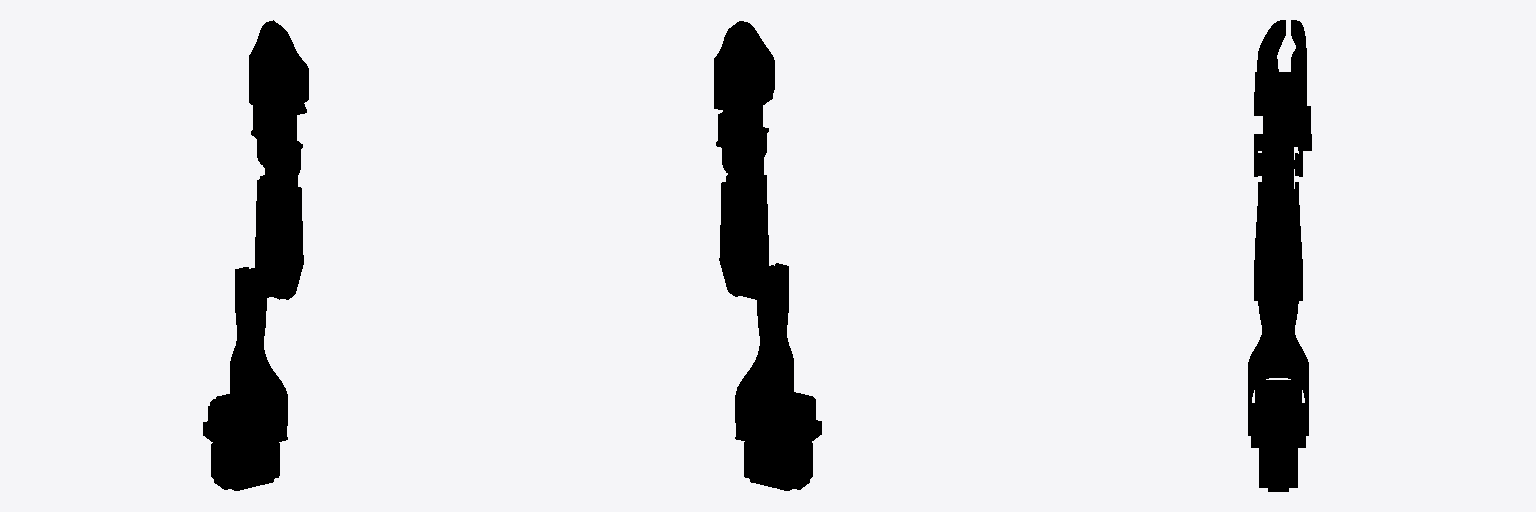
robot.urdf — koch11:
<?xml version="1.0" ?>
<robot name="koch11" xmlns:xacro="http://www.ros.org/wiki/xacro">

<material name="Grey">
  <color rgba="0.2 0.2 0.2 1.0"/>
</material>
<material name="Orange">
  <color rgba="1.0 0.423529411765 0.0392156862745 1.0"/>
</material>
<material name="Blue">
  <color rgba="0.5 0.7 1.0 1.0"/>      
</material>
<material name="Black">
  <color rgba="0.0 0.0 0.0 1.0"/>      
</material>

  <link name="link_0">
    <inertial>
      <origin rpy="0 0 0" xyz="-0.1 0 0.07"/>
      <mass value="0.0"/>
      <inertia ixx="0.05" ixy="0" ixz="0" iyy="0.06" iyz="0" izz="0.03"/>
    </inertial>
    <visual>
      <origin rpy="0 0 0" xyz="0 0 0"/>
      <geometry>
        <mesh filename="meshes/L0.stl"/>
      </geometry>
      <material name="Black"/>
    </visual>
    <collision>
      <origin rpy="0 0 0" xyz="0 0 0"/>
      <geometry>
        <mesh filename="meshes/L0.stl"/>
      </geometry>
    </collision>
  </link>
  <!-- joint between link_0 and link_1 -->
  <joint name="joint_1" type="revolute">
    <parent link="link_0"/>
    <child link="link_1"/>
    <origin rpy="0 0 0" xyz="0 0 0.036"/>
    <axis xyz="0 0 1"/>
    <limit effort="300" lower="-2.96705972839" upper="2.96705972839" velocity="10"/>
    <dynamics damping="0.5"/>
  </joint>
  <link name="link_1">
    <inertial>
      <origin rpy="0 0 0" xyz="0 -0.03 0.12"/>
      <mass value="4"/>
      <inertia ixx="0.1" ixy="0" ixz="0" iyy="0.09" iyz="0" izz="0.02"/>
    </inertial>
    <visual>
      <origin rpy="0 0 0" xyz="0 0 0"/>
      <geometry>
        <mesh filename="meshes/L1.stl"/>
      </geometry>
      <material name="Black"/>
    </visual>
    <collision>
      <origin rpy="0 0 0" xyz="0 0 0"/>
      <geometry>
        <mesh filename="meshes/L1.stl"/>
      </geometry>
    </collision>
  </link>
  <!-- joint between link_1 and link_2 -->
  <joint name="joint_2" type="revolute">
    <parent link="link_1"/>
    <child link="link_2"/>
    <origin rpy="-1.57079632679 0 0" xyz="0 0 0.0173"/>
    <axis xyz="0 0 1"/>
    <limit effort="300" lower="-2.09439510239" upper="2.09439510239" velocity="10"/>
    <dynamics damping="0.5"/>
  </joint>
  <link name="link_2">
    <inertial>
      <origin rpy="0 0 0" xyz="0.0003 0.059 0.042"/>
      <mass value="4"/>
      <inertia ixx="0.05" ixy="0" ixz="0" iyy="0.018" iyz="0" izz="0.044"/>
    </inertial>
    <visual>
      <origin rpy="1.57079632679 0 0" xyz="0 0 0"/>
      <geometry>
        <mesh filename="meshes/L2.stl"/>
      </geometry>
      <material name="Black"/>
    </visual>
    <collision>
      <origin rpy="1.57079632679 0 0" xyz="0 0 0"/>
      <geometry>
        <mesh filename="meshes/L2.stl"/>
      </geometry>
    </collision>
  </link>
  <!-- joint between link_2 and link_3 -->
  <joint name="joint_3" type="revolute">
    <parent link="link_2"/>
    <child link="link_3"/>
    <origin rpy="0 0 0" xyz="0.0148 -0.1083 0.0"/>
    <axis xyz="0 0 1"/>
    <limit effort="300" lower="-2.96705972839" upper="2.96705972839" velocity="10"/>
    <dynamics damping="0.5"/>
  </joint>
  <link name="link_3">
    <inertial>
      <origin rpy="0 0 0" xyz="0 0.03 0.13"/>
      <mass value="3"/>
      <inertia ixx="0.08" ixy="0" ixz="0" iyy="0.075" iyz="0" izz="0.01"/>
    </inertial>
    <visual>
      <origin rpy="1.57079632679 0 0" xyz="0 0 0"/>
      <geometry>
        <mesh filename="meshes/L3.stl"/>
      </geometry>
      <material name="Black"/>
    </visual>
    <collision>
      <origin rpy="1.57079632679 0 0" xyz="0 0 0"/>
      <geometry>
        <mesh filename="meshes/L3.stl"/>
      </geometry>
    </collision>
  </link>
  <!-- joint between link_3 and link_4 -->
  <joint name="joint_4" type="revolute">
    <parent link="link_3"/>
    <child link="link_4"/>
    <origin rpy="0 0 0" xyz="0.00271 -0.10048 0.0"/>
    <axis xyz="0 0 1"/>
    <limit effort="300" lower="-2.09439510239" upper="2.09439510239" velocity="10"/>
    <dynamics damping="0.5"/>
  </joint>
  <link name="link_4">
    <inertial>
      <origin rpy="0 0 0" xyz="0 0.067 0.034"/>
      <mass value="2.7"/>
      <inertia ixx="0.03" ixy="0" ixz="0" iyy="0.01" iyz="0" izz="0.029"/>
    </inertial>
    <visual>
      <origin rpy="1.57079632679 0 0" xyz="0 0 0"/>
      <geometry>
        <mesh filename="meshes/L4.stl"/>
      </geometry>
      <material name="Black"/>
    </visual>
    <collision>
      <origin rpy="1.57079632679 0 0" xyz="0 0 0"/>
      <geometry>
        <mesh filename="meshes/L4.stl"/>
      </geometry>
    </collision>
  </link>
  <!-- joint between link_4 and link_5 -->
  <joint name="joint_5" type="revolute">
    <parent link="link_4"/>
    <child link="link_5"/>
    <origin rpy="1.57079632679 0 0" xyz="0 -0.045 0.0"/>
    <axis xyz="0 0 1"/>
    <limit effort="300" lower="-2.96705972839" upper="2.96705972839" velocity="10"/>
    <dynamics damping="0.5"/>
  </joint>
  <link name="link_5">
    <inertial>
      <origin rpy="0 0 0" xyz="0.0001 0.021 0.076"/>
      <mass value="1.7"/>
      <inertia ixx="0.02" ixy="0" ixz="0" iyy="0.018" iyz="0" izz="0.005"/>
    </inertial>
    <visual>
      <origin rpy="0 0 0" xyz="0 0 0"/>
      <geometry>
        <mesh filename="meshes/L5.stl"/>
      </geometry>
      <material name="Black"/>
    </visual>
    <collision>
      <origin rpy="0 0 0" xyz="0 0 0"/>
      <geometry>
        <mesh filename="meshes/L5.stl"/>
      </geometry>
    </collision>
  </link>
  
</robot>

--- What the picture shows (computed from the rendered views, not written in the file) ---
3 views of the same robot in one strip: view 1: azimuth 30°, elevation 25°; view 2: azimuth 150°, elevation 25°; view 3: azimuth 270°, elevation 25° (orthographic).
Robot: koch11 — 6 links, 5 joints (5 revolute); root link link_0; default pose: every joint at zero.
Visible links, largest first — view 1: link_2, link_3, link_5, link_1, link_0, link_4; view 2: link_2, link_3, link_5, link_1, link_0, link_4; view 3: link_3, link_2, link_5, link_1, link_4, link_0.
Link boxes in pixels (<box>): link_2: <box>230,265,287,439</box>; link_3: <box>255,146,303,299</box>; link_5: <box>249,20,308,120</box>; link_1: <box>203,388,287,453</box>; link_0: <box>211,442,279,490</box>; link_4: <box>251,106,302,180</box>; link_2: <box>735,262,793,438</box>; link_3: <box>719,140,768,296</box>; link_5: <box>714,21,774,116</box>; link_1: <box>735,386,821,453</box>; link_0: <box>744,442,812,490</box>; link_4: <box>716,106,768,176</box>; link_3: <box>1254,147,1302,300</box>; link_2: <box>1248,278,1308,435</box>; link_5: <box>1254,20,1306,115</box>; link_1: <box>1251,380,1305,447</box>; link_4: <box>1254,106,1311,176</box>; link_0: <box>1259,448,1297,491</box>.
Bounding box of the posed robot: 0.0735 × 0.0463 × 0.3759 m (x, y, z).
6 mesh visuals loaded from 6 distinct referenced files (6 binary STL).
